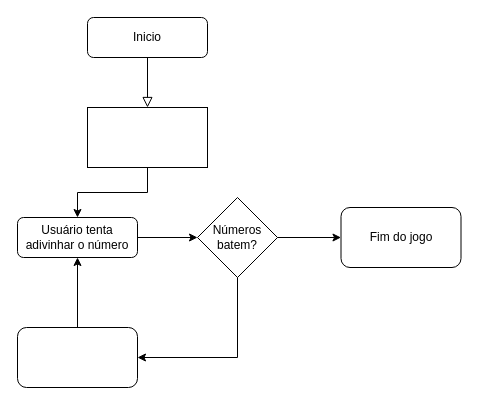
The diagram is 479 pixels wide and 405 high, and some of its shapes have lost their labels. The centre of each missing label's shape, as x and y in pixels:
"não" goes at point (77, 357).
"Programa gera um número aleatório entre 0 e 100" goes at point (147, 137).
